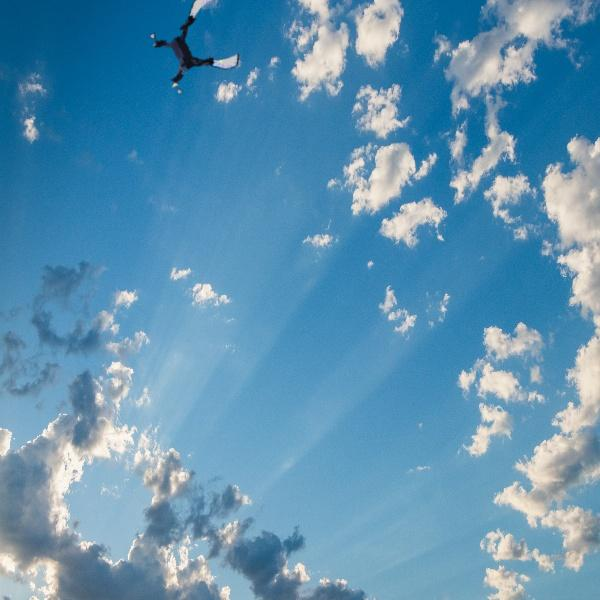drone: (148, 1, 239, 92)
